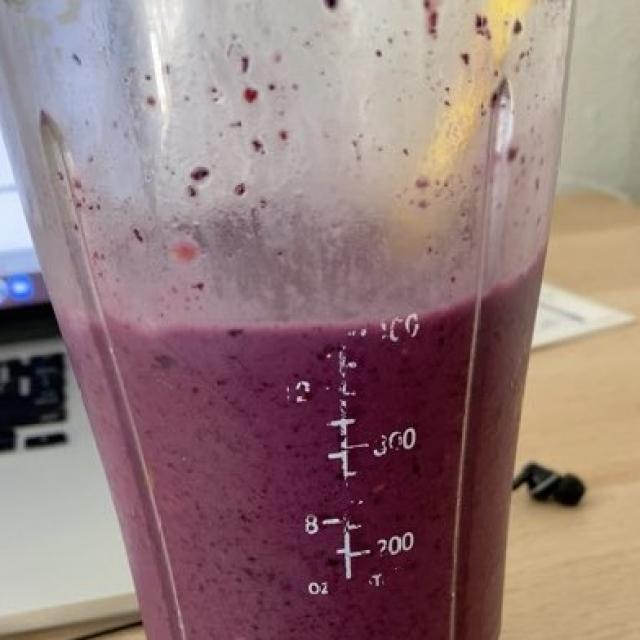smoothie: (66, 217, 554, 638)
